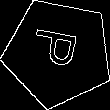P_E: (30, 29, 87, 76)
